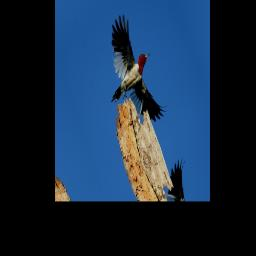Woodpecker: (90, 2, 170, 151)
